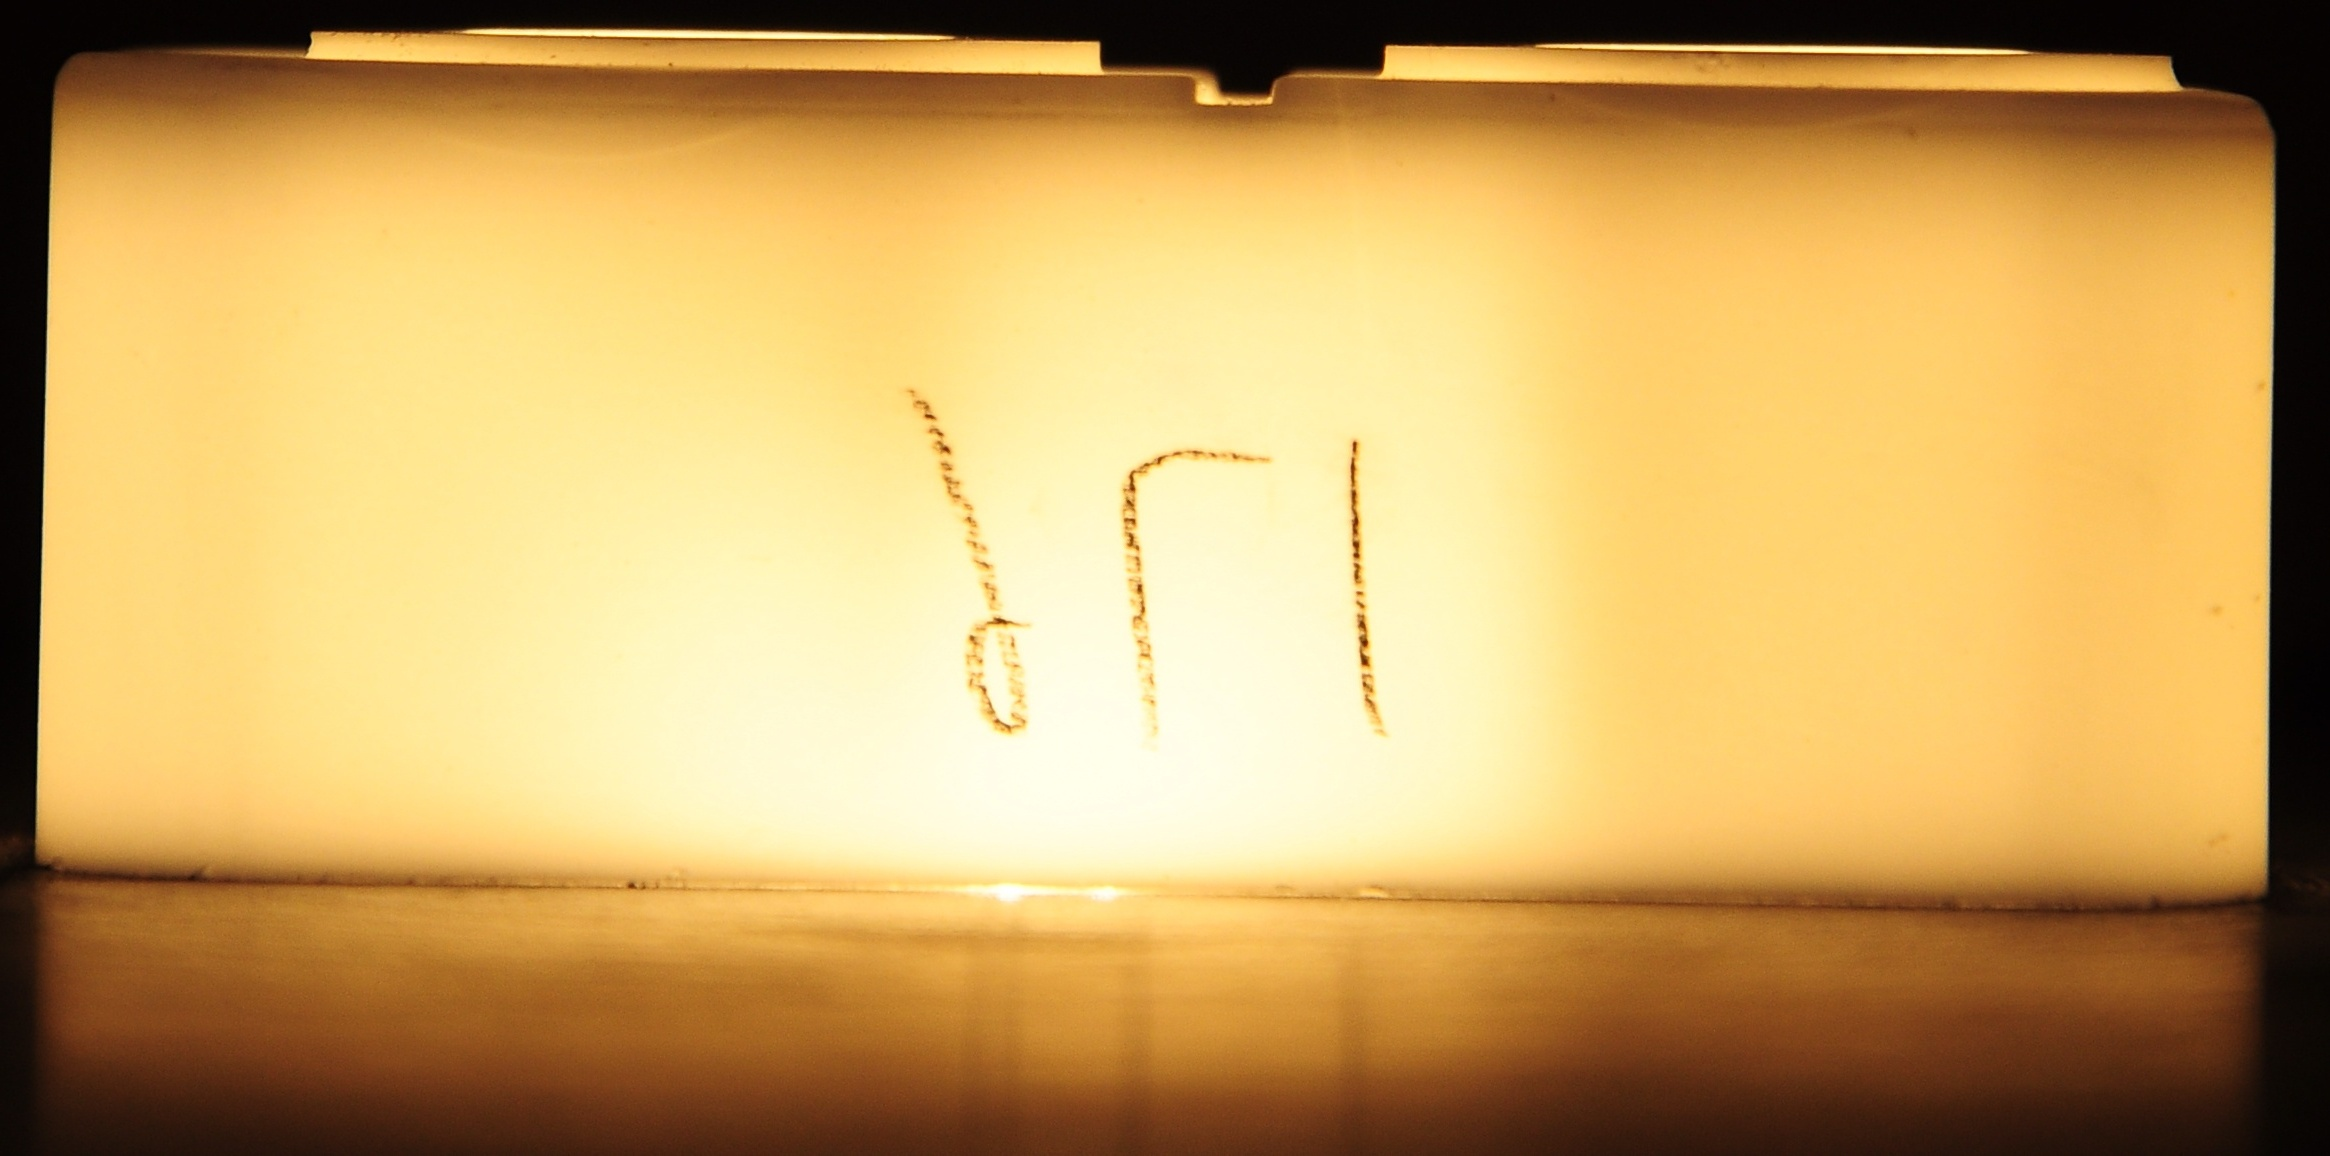flaw: (317, 89, 792, 180), (1492, 85, 1953, 146)
